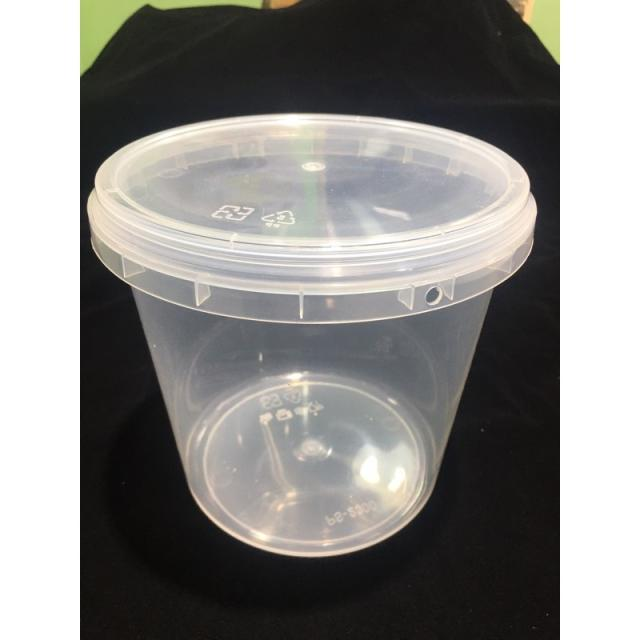plastic: (89, 112, 542, 563)
